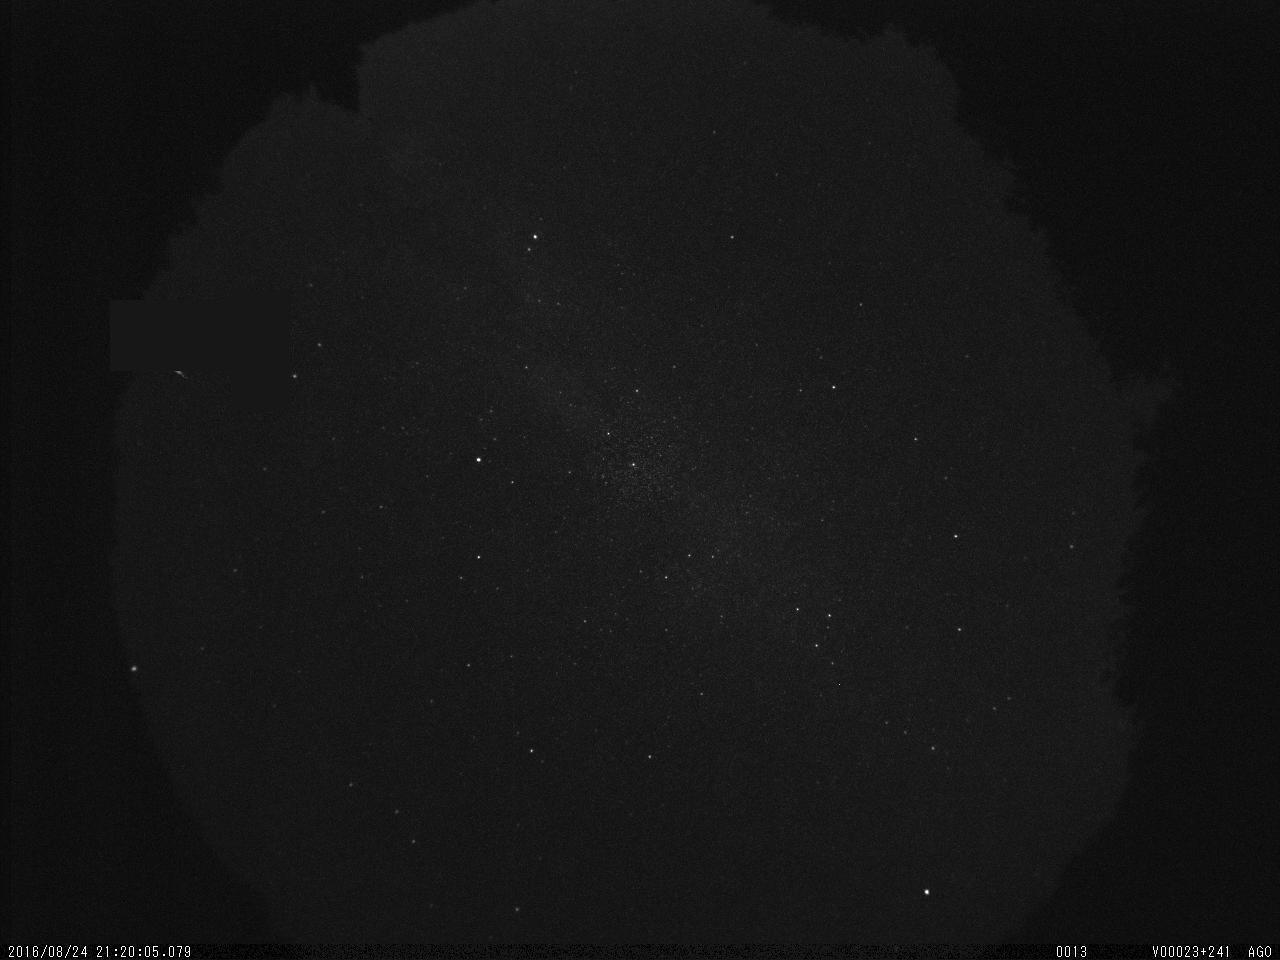meteor: (141, 337, 189, 385)
